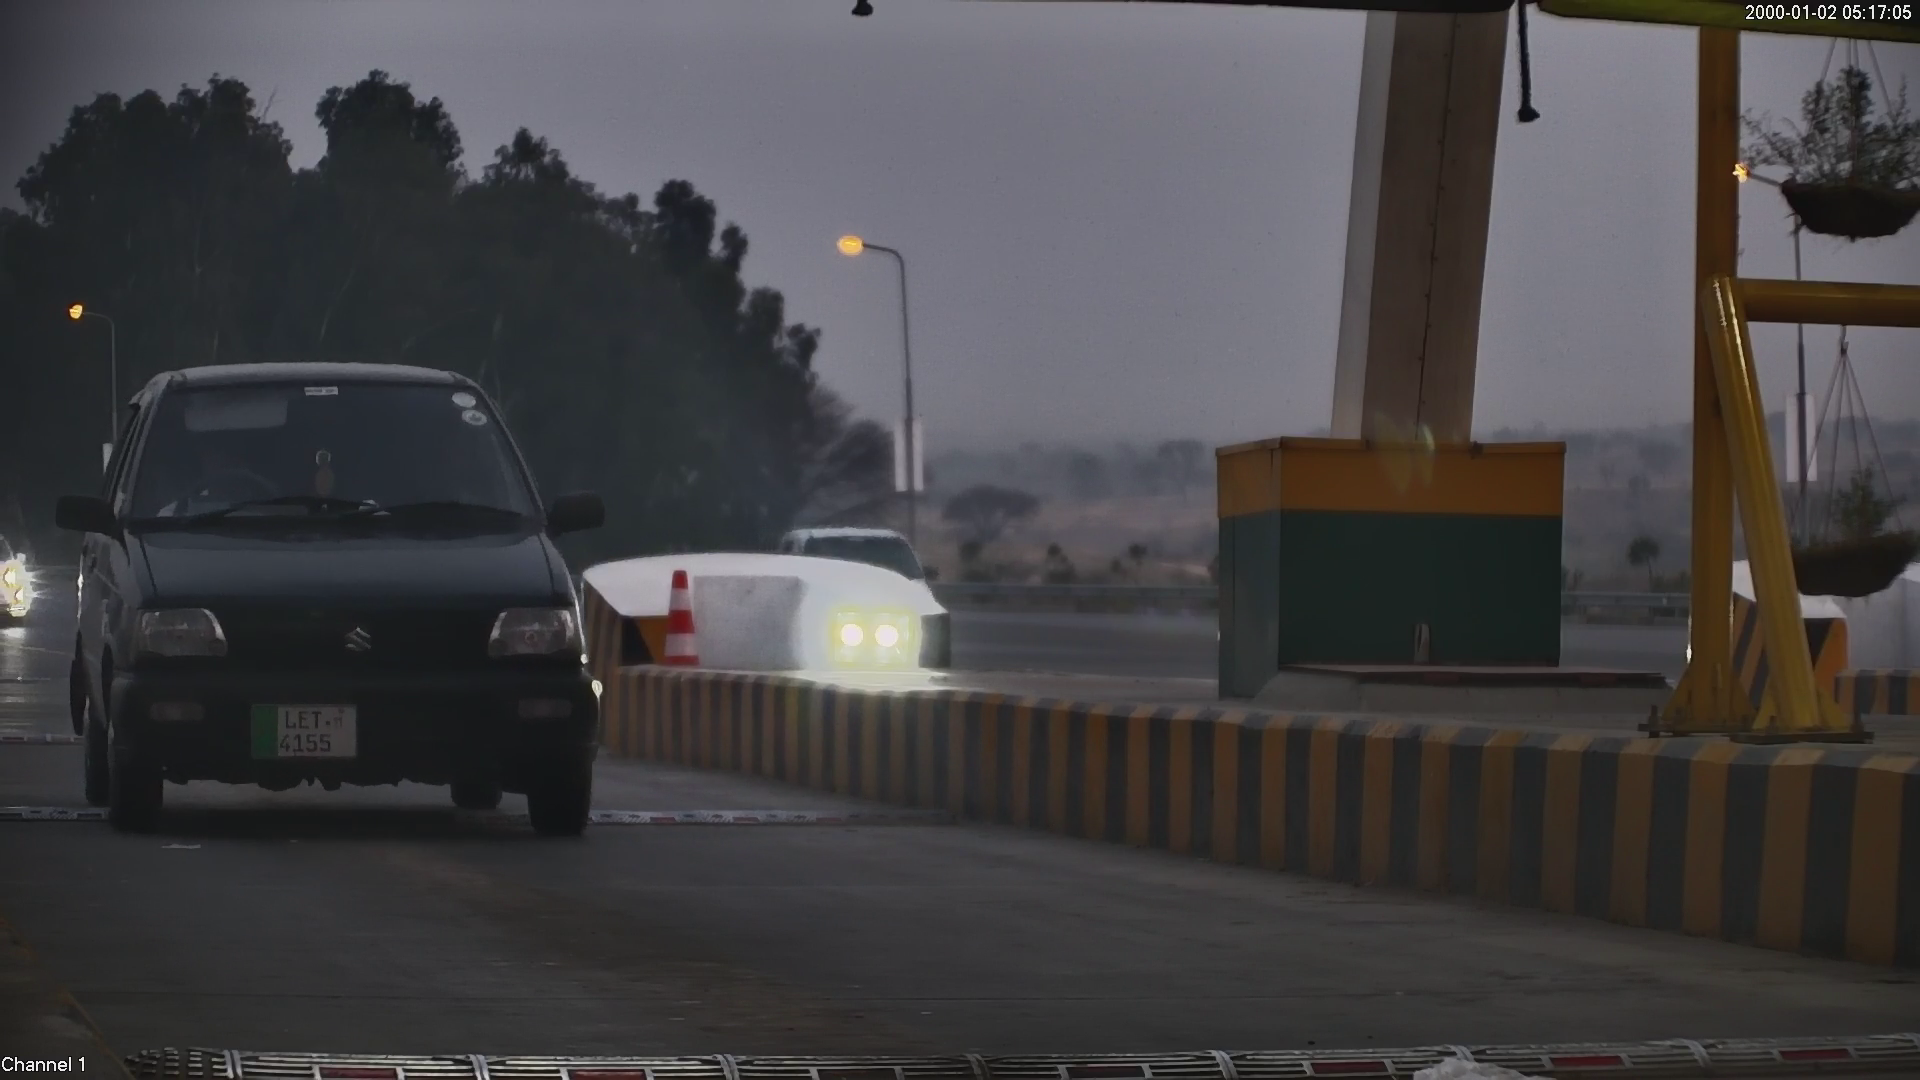Number_Plate: (236, 690, 370, 774)
